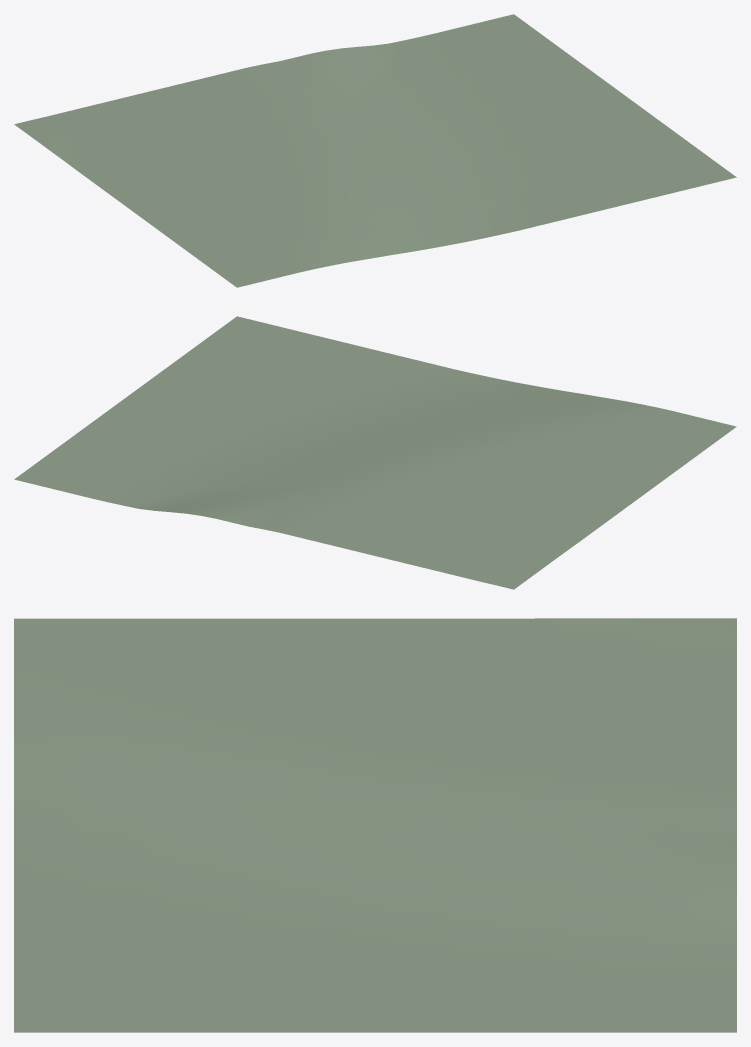
Rendered from chunk_3_2_LOD0.glb.
The picture shows the model from 3 angles, top to bottom: view 1: azimuth 30°, elevation 25°; view 2: azimuth 150°, elevation 25°; view 3: azimuth 270°, elevation 25°; orthographic projection. The views are drawn at different scales.
Bounding box in the file's own units: 110 × 2.49 × 85.
